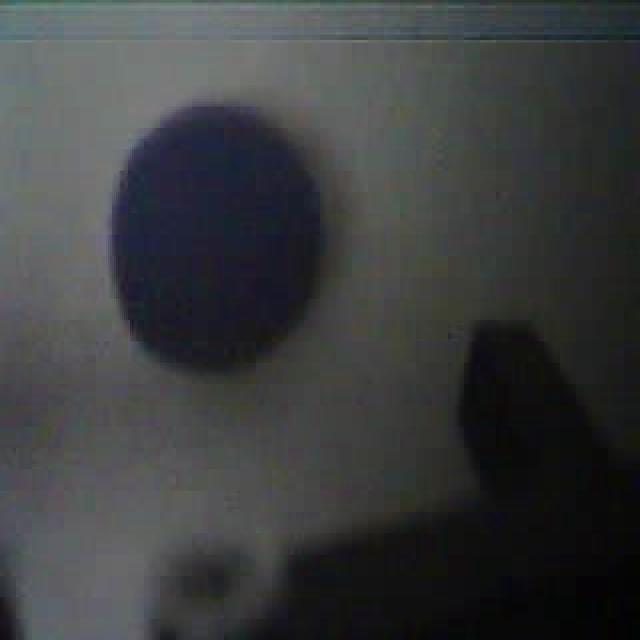blue_ball: (106, 99, 326, 373)
